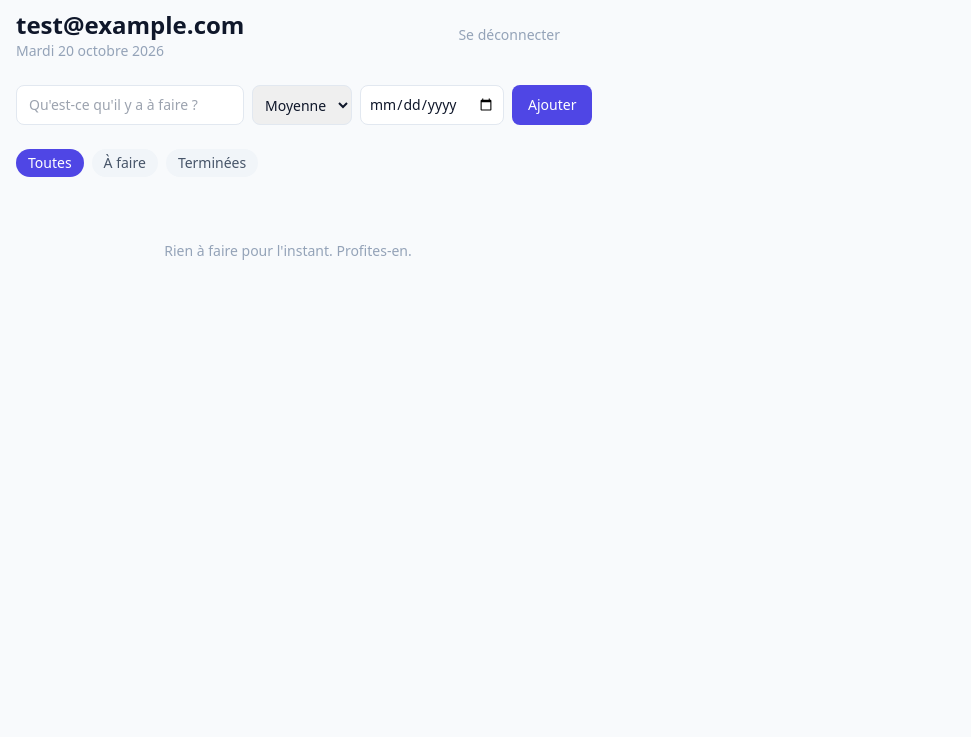
Test: TasksView › adds a task through the form and shows a toast
In the field with placeholder "Qu'est-ce qu'il y a à faire ?": (130, 105) [16,85,244,125], type "Buy milk"
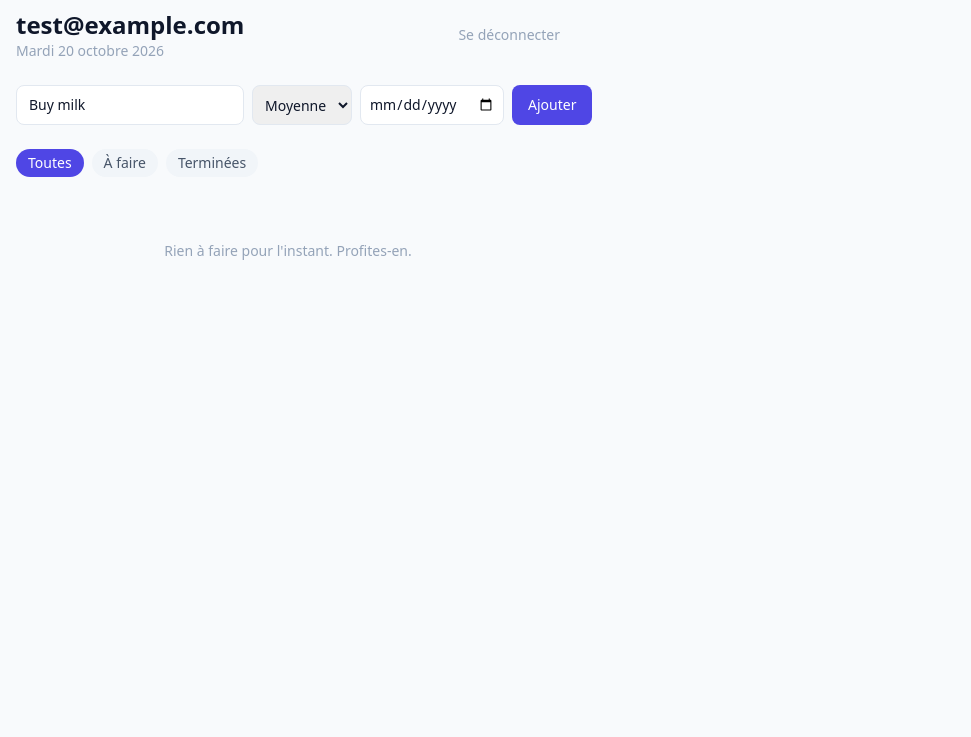
Click the button "Ajouter": (552, 105) [512,85,592,125]
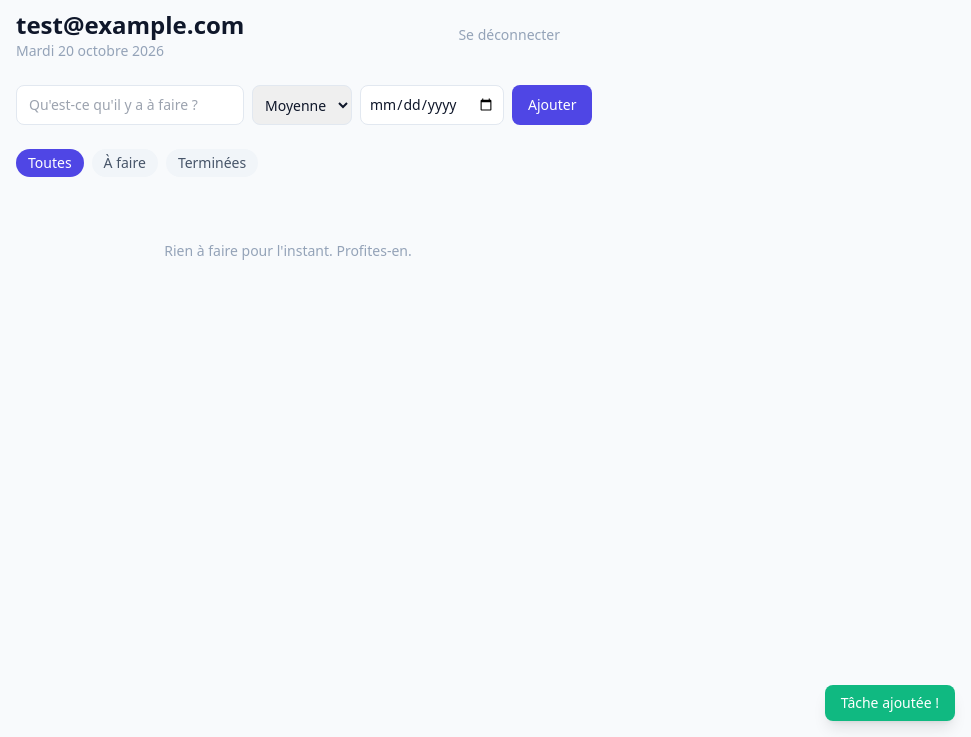
Check: the text "Tâche ajoutée !" is shown, box [825,685,955,721]
